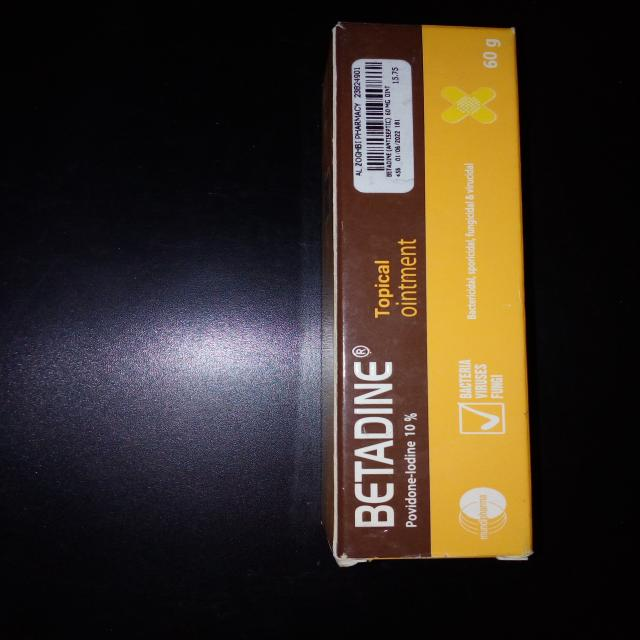Medicine: (326, 21, 540, 566)
